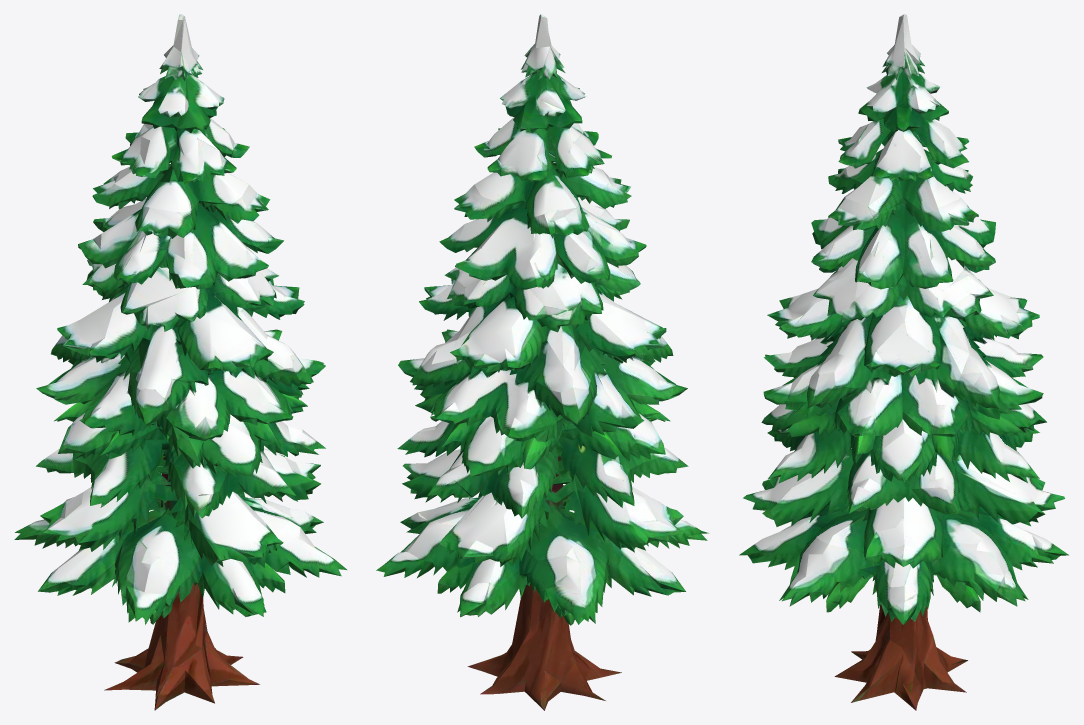
File: scn_pinetree.glb
The picture shows the model from 3 angles, left to right: view 1: azimuth 30°, elevation 25°; view 2: azimuth 150°, elevation 25°; view 3: azimuth 270°, elevation 25°; orthographic projection.
Size of the model in its own units: 0.856 by 1.9 by 0.8572.
1 material, 1 textured.
